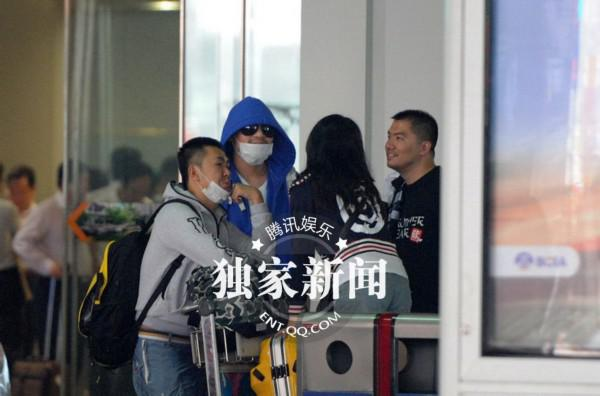NONE: (384, 126, 419, 168)
WRONG: (192, 153, 238, 199), (239, 123, 276, 166)
